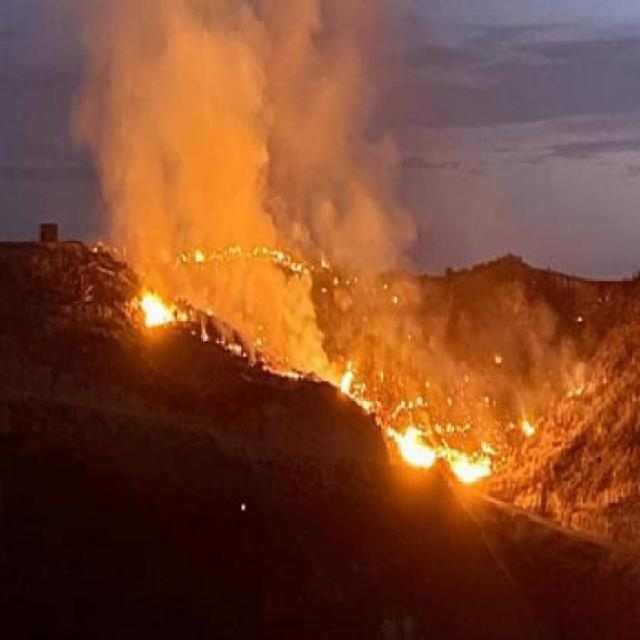Fire: (379, 423, 494, 489), (254, 244, 312, 278), (138, 291, 180, 331), (356, 378, 377, 418), (268, 364, 300, 381), (225, 242, 244, 260), (342, 368, 352, 399), (568, 383, 584, 402), (193, 244, 204, 266), (522, 417, 535, 435), (197, 327, 210, 342), (229, 342, 242, 356), (181, 249, 187, 263), (494, 354, 500, 364)
